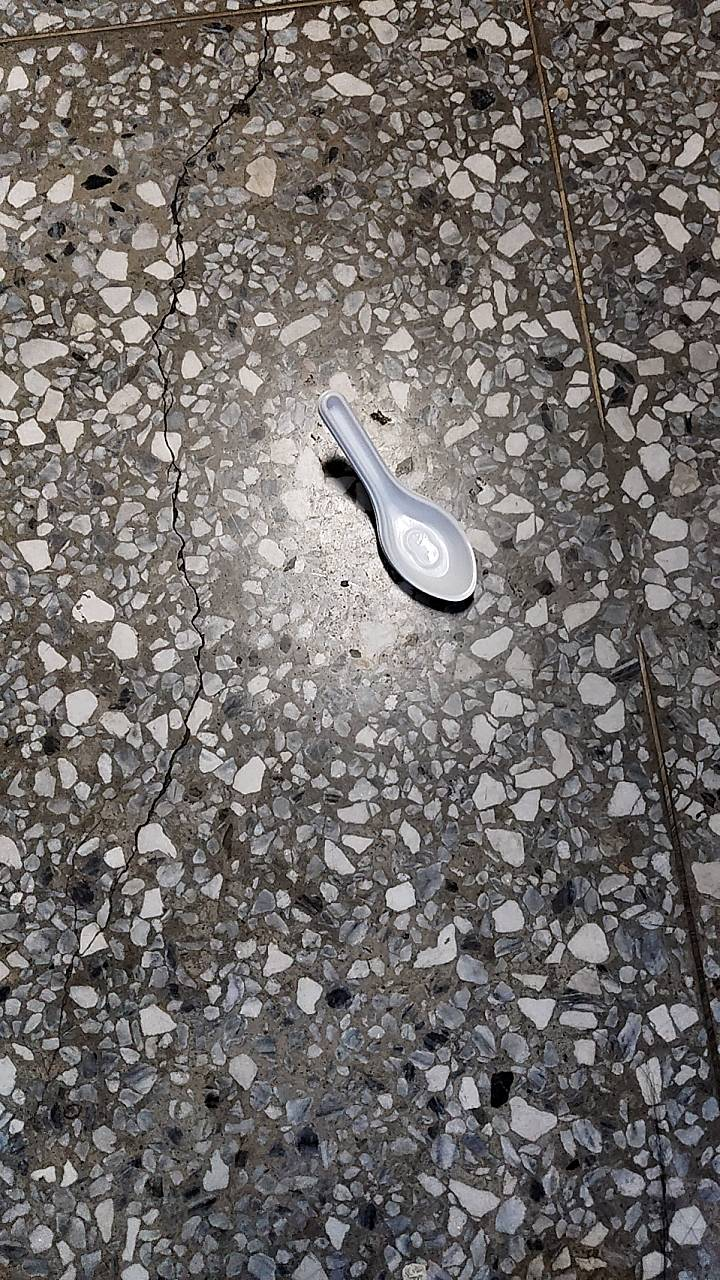plastic: (298, 378, 504, 640)
